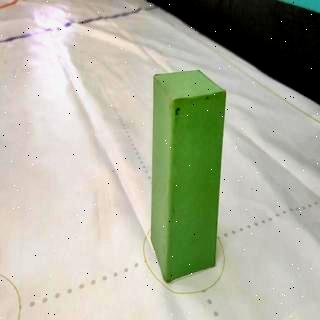greenbox: (151, 68, 227, 283)
